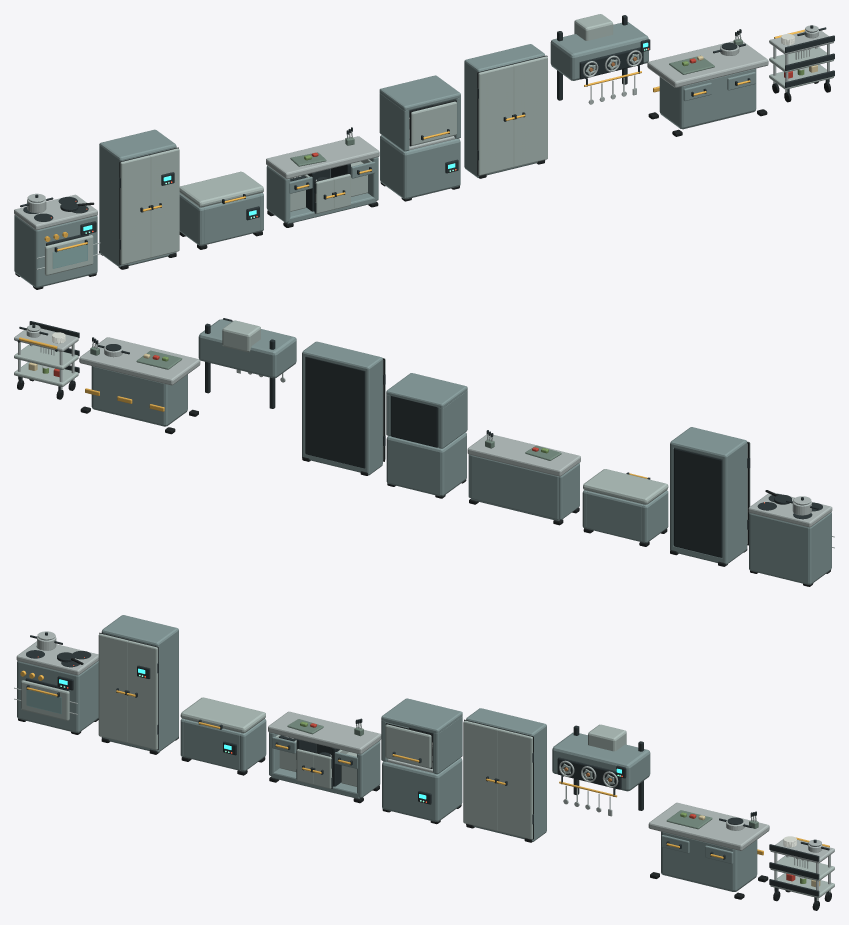
The model's file is submarine_postapo_futuristic_kitchen_pack.glb.
3 views of the same model, one above another, from view 1: azimuth 30°, elevation 25°; view 2: azimuth 150°, elevation 25°; view 3: azimuth 330°, elevation 25° (orthographic).
Parts seen in each view (by area): view 1: DISH_Lower_Washer_Base, PANTRY_Left_Door_Panel, PANTRY_Right_Door_Panel, ISLAND_Armored_Base, FRIDGE_Left_Door_Panel, RANGE_Armored_Body, FRIDGE_Right_Door_Panel, HOOD_Canopy, ISLAND_Overhanging_Worktop, PREP_Worktop, FRIDGE_Left_Insulated_Wall, FREEZER_Front_Armored_Wall (+19 smaller); view 2: PANTRY_Interior_Back, FRIDGE_Interior_Back, RANGE_Armored_Body, ISLAND_Armored_Base, PREP_Back_Panel, DISH_Lower_Washer_Base, HOOD_Canopy, FRIDGE_Left_Insulated_Wall, ISLAND_Overhanging_Worktop, PREP_Worktop, FREEZER_Rear_Armored_Wall, DISH_Chamber_Back (+13 smaller); view 3: DISH_Lower_Washer_Base, PANTRY_Right_Door_Panel, PANTRY_Left_Door_Panel, ISLAND_Armored_Base, FRIDGE_Left_Door_Panel, RANGE_Armored_Body, FRIDGE_Right_Door_Panel, HOOD_Canopy, ISLAND_Overhanging_Worktop, PREP_Worktop, FRIDGE_Right_Insulated_Wall, FREEZER_Front_Armored_Wall (+18 smaller).
Part boxes in pixels (x1=…): DISH_Lower_Washer_Base: x1=380, y1=135, x2=460, y2=199; PANTRY_Left_Door_Panel: x1=478, y1=64, x2=513, y2=175; PANTRY_Right_Door_Panel: x1=513, y1=56, x2=547, y2=167; ISLAND_Armored_Base: x1=659, y1=68, x2=756, y2=129; FRIDGE_Left_Door_Panel: x1=120, y1=155, x2=150, y2=264; RANGE_Armored_Body: x1=14, y1=215, x2=97, y2=287; FRIDGE_Right_Door_Panel: x1=150, y1=148, x2=179, y2=257; HOOD_Canopy: x1=550, y1=22, x2=648, y2=80; ISLAND_Overhanging_Worktop: x1=647, y1=41, x2=768, y2=87; PREP_Worktop: x1=266, y1=136, x2=379, y2=179; FRIDGE_Left_Insulated_Wall: x1=99, y1=148, x2=119, y2=261; FREEZER_Front_Armored_Wall: x1=203, y1=193, x2=260, y2=245; PANTRY_Interior_Back: x1=305, y1=357, x2=364, y2=468; FRIDGE_Interior_Back: x1=673, y1=448, x2=722, y2=557; RANGE_Armored_Body: x1=749, y1=512, x2=831, y2=584; ISLAND_Armored_Base: x1=91, y1=366, x2=187, y2=426; PREP_Back_Panel: x1=470, y1=455, x2=558, y2=519; DISH_Lower_Washer_Base: x1=386, y1=432, x2=466, y2=496; HOOD_Canopy: x1=198, y1=319, x2=296, y2=378; FRIDGE_Left_Insulated_Wall: x1=722, y1=444, x2=747, y2=559; ISLAND_Overhanging_Worktop: x1=79, y1=337, x2=200, y2=385; PREP_Worktop: x1=467, y1=434, x2=580, y2=476; FREEZER_Rear_Armored_Wall: x1=586, y1=491, x2=642, y2=542; DISH_Chamber_Back: x1=390, y1=396, x2=437, y2=447; DISH_Lower_Washer_Base: x1=382, y1=758, x2=462, y2=821; PANTRY_Right_Door_Panel: x1=497, y1=729, x2=532, y2=839; PANTRY_Left_Door_Panel: x1=463, y1=720, x2=498, y2=831; ISLAND_Armored_Base: x1=661, y1=831, x2=757, y2=891; FRIDGE_Left_Door_Panel: x1=98, y1=633, x2=128, y2=742; RANGE_Armored_Body: x1=17, y1=661, x2=98, y2=732; FRIDGE_Right_Door_Panel: x1=127, y1=640, x2=157, y2=749; HOOD_Canopy: x1=552, y1=732, x2=650, y2=791; ISLAND_Overhanging_Worktop: x1=648, y1=802, x2=769, y2=850; PREP_Worktop: x1=268, y1=711, x2=381, y2=754; FRIDGE_Right_Insulated_Wall: x1=158, y1=632, x2=178, y2=746; FREEZER_Front_Armored_Wall: x1=184, y1=719, x2=240, y2=770.
Bounding box in the file's own units: 15.38 × 2.15 × 1.08.
